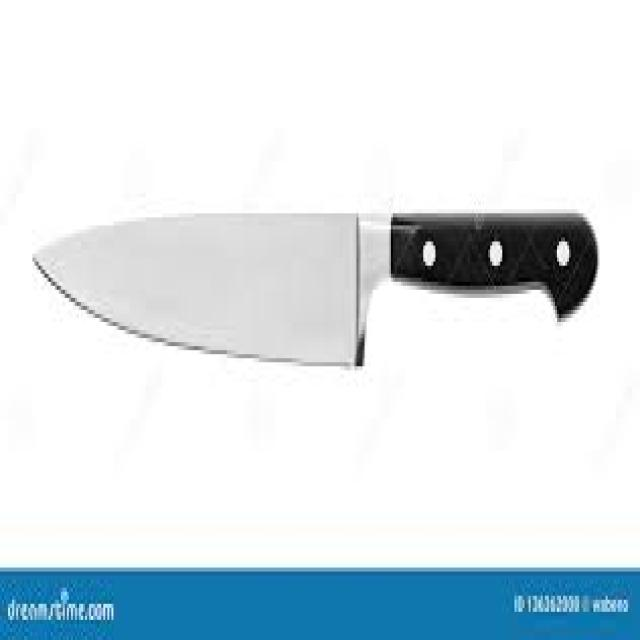Knife: (30, 206, 598, 367)
